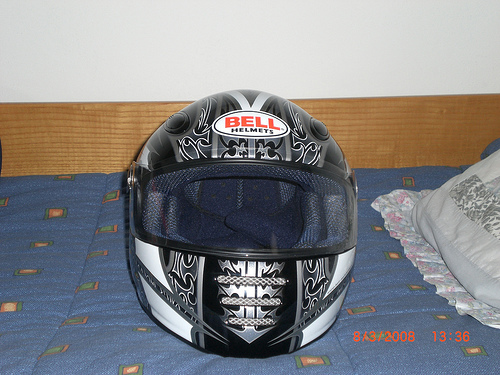helmet: (129, 98, 375, 352)
